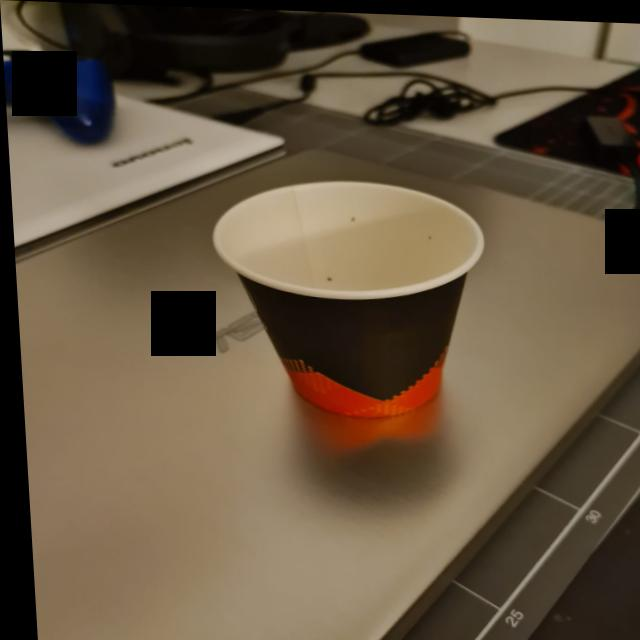cups: (212, 175, 488, 412)
